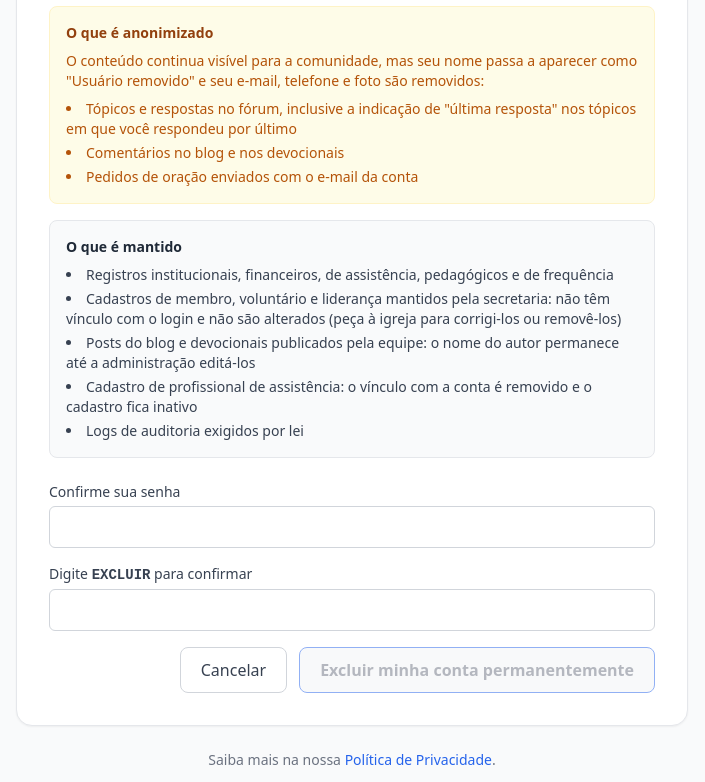
Scenario: DeleteAccountPage › keeps the delete button disabled until the exact confirmation word is typed
(page scrolled)
Type "secret123" into the password field labelled "Confirme sua senha" at (352, 527), box [49,506,655,548]
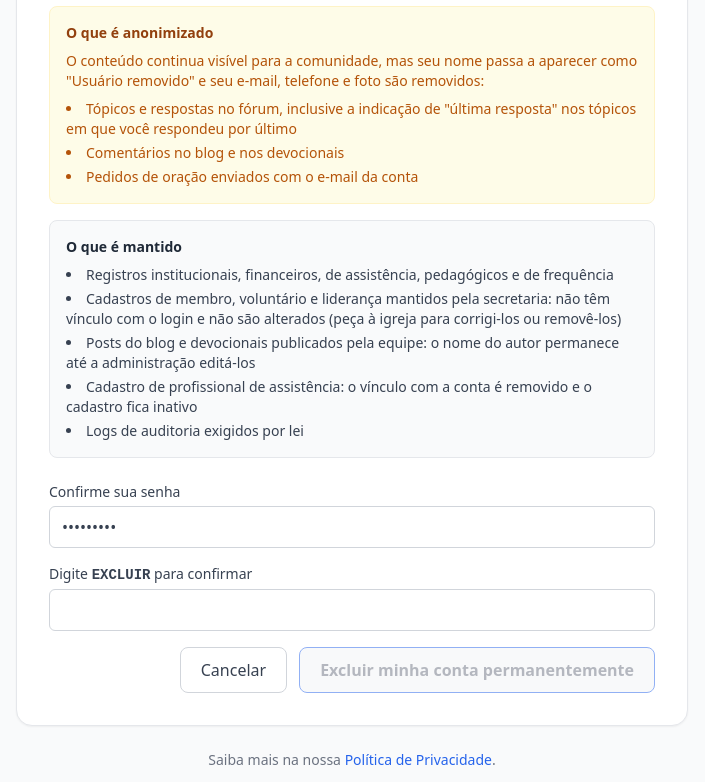
Check: the button "Excluir minha conta permanentemente" is disabled, box [299,647,655,693]
Type "excluir" into the field labelled "Digite EXCLUIR para confirmar" at (352, 610), box [49,589,655,631]
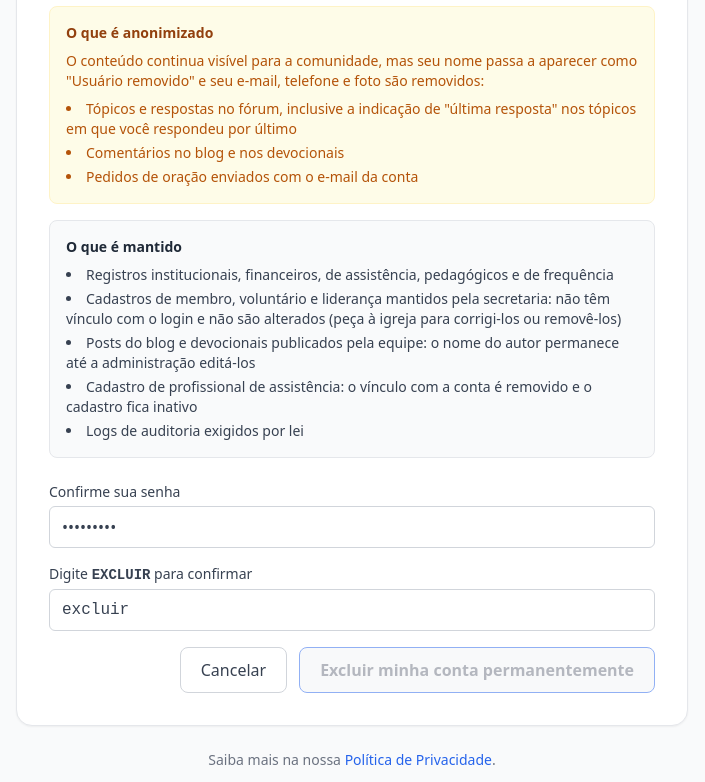
Check: the button "Excluir minha conta permanentemente" is disabled, box [299,647,655,693]
Replace the text in the field labelled "Digite EXCLUIR para confirmar" with "EXCLUI" at (352, 610), box [49,589,655,631]
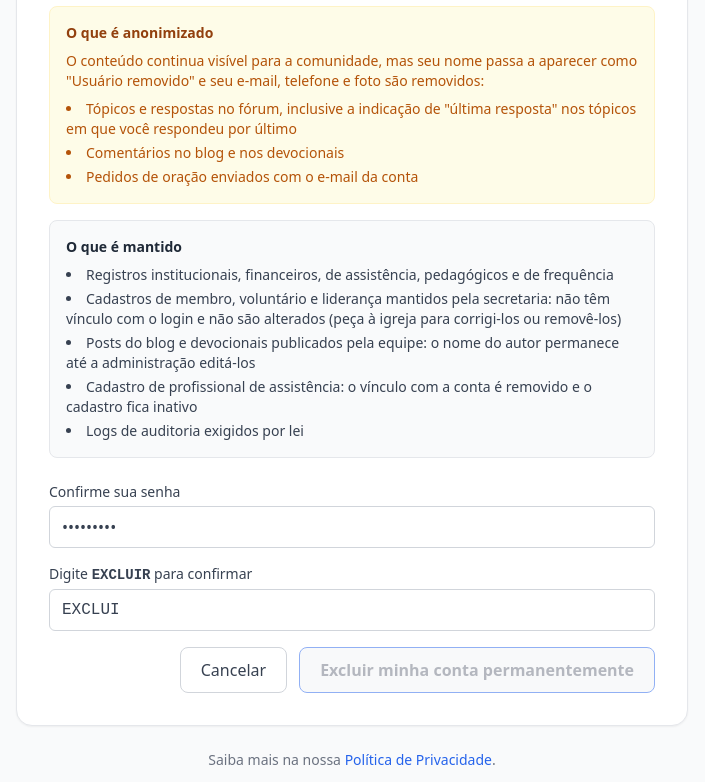
Check: the button "Excluir minha conta permanentemente" is disabled, box [299,647,655,693]
Submit the form named "excluir minha conta permanentemente", box [49,482,655,693]
Replace the text in the field labelled "Digite EXCLUIR para confirmar" with "EXCLUIR" at (352, 610), box [49,589,655,631]
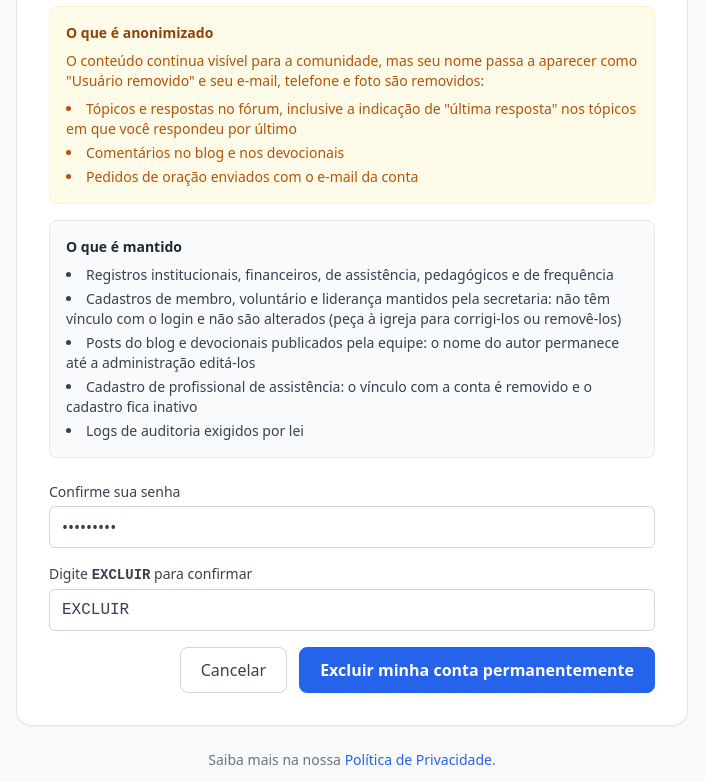
Check: the button "Excluir minha conta permanentemente" is enabled, box [299,647,655,693]
